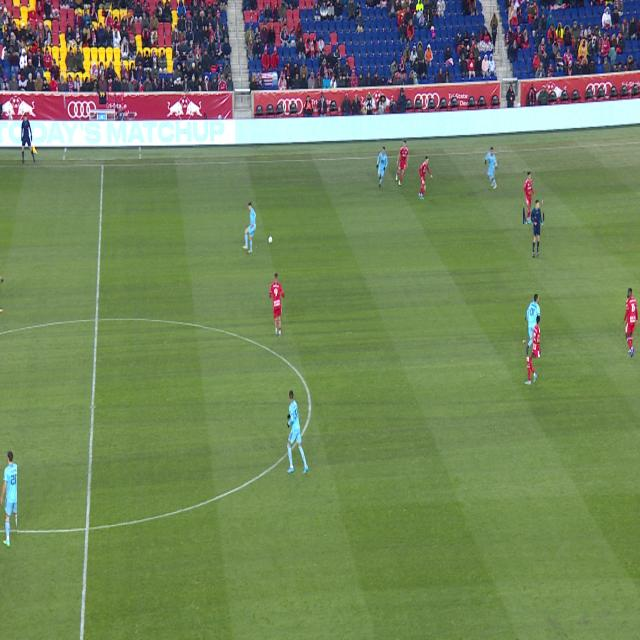football: (268, 236, 272, 244)
player: (287, 391, 308, 474), (0, 451, 17, 547), (623, 288, 638, 357), (269, 272, 284, 337), (523, 316, 537, 385), (527, 295, 540, 357), (418, 156, 433, 200), (243, 203, 256, 253), (396, 140, 409, 185), (524, 172, 535, 224), (485, 147, 498, 189), (376, 147, 388, 187)
referee: (532, 200, 543, 258)
